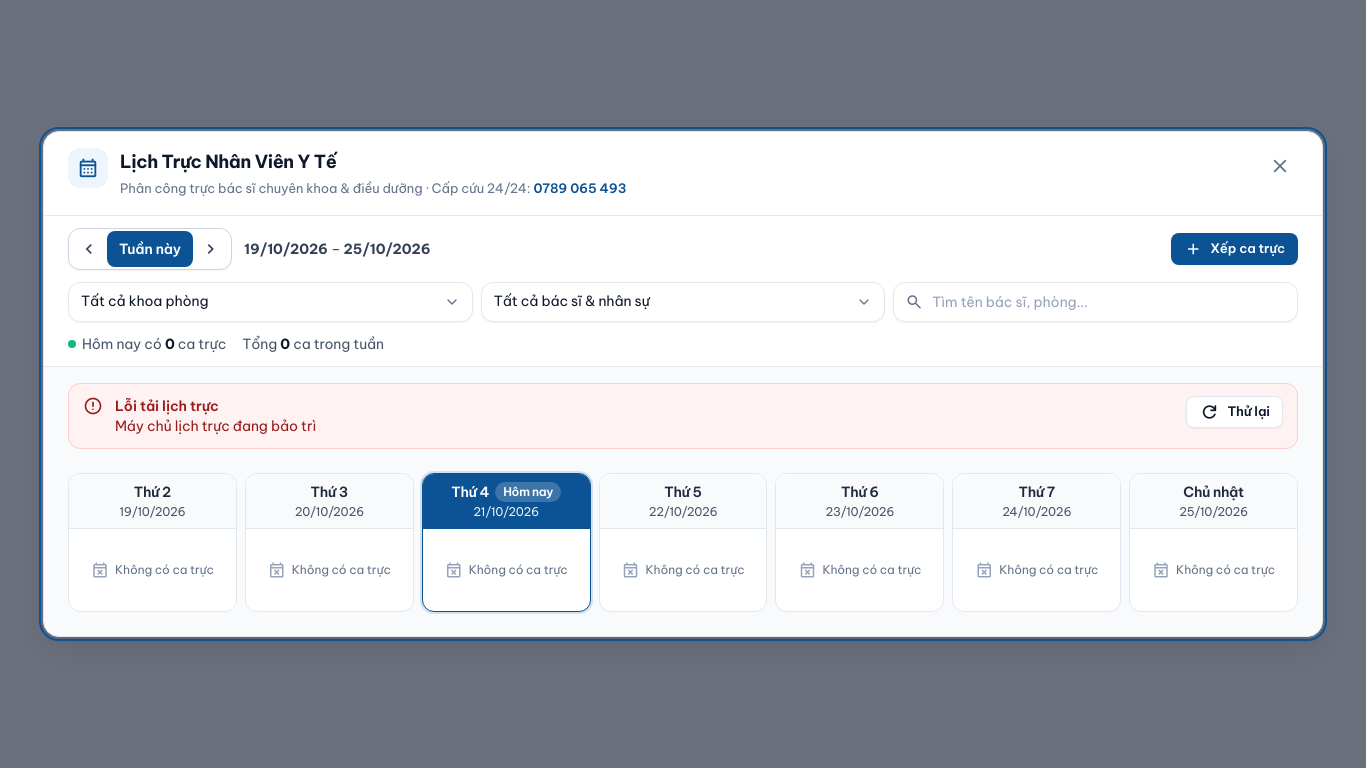
Test: Staff & Schedule Module Suite (Sprint 8 - FR-8) › StaffScheduleModal UI Tests › hiển thị lỗi tải lịch trực kèm nút Thử lại
The width and height of the screenshot is (1366, 768).
Expected: the message shows "Máy chủ lịch trực đang bảo trì", [115, 417, 316, 435]
Step 1. Click the button "Thử lại" → click(1235, 412), box [1186, 396, 1283, 428]
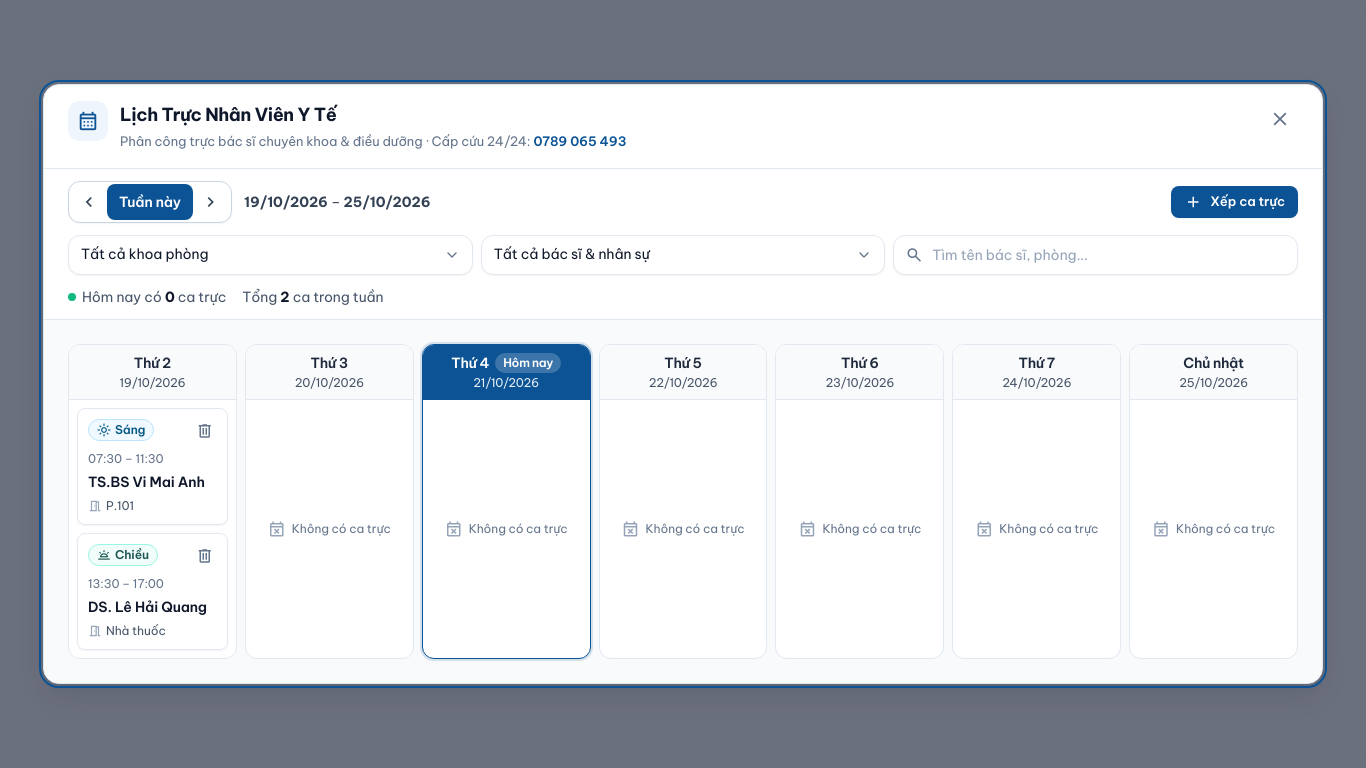
Now the text "Máy chủ lịch trực đang bảo trì" is gone
Now the button named "Xóa ca " is shown, box [189, 415, 221, 447]
